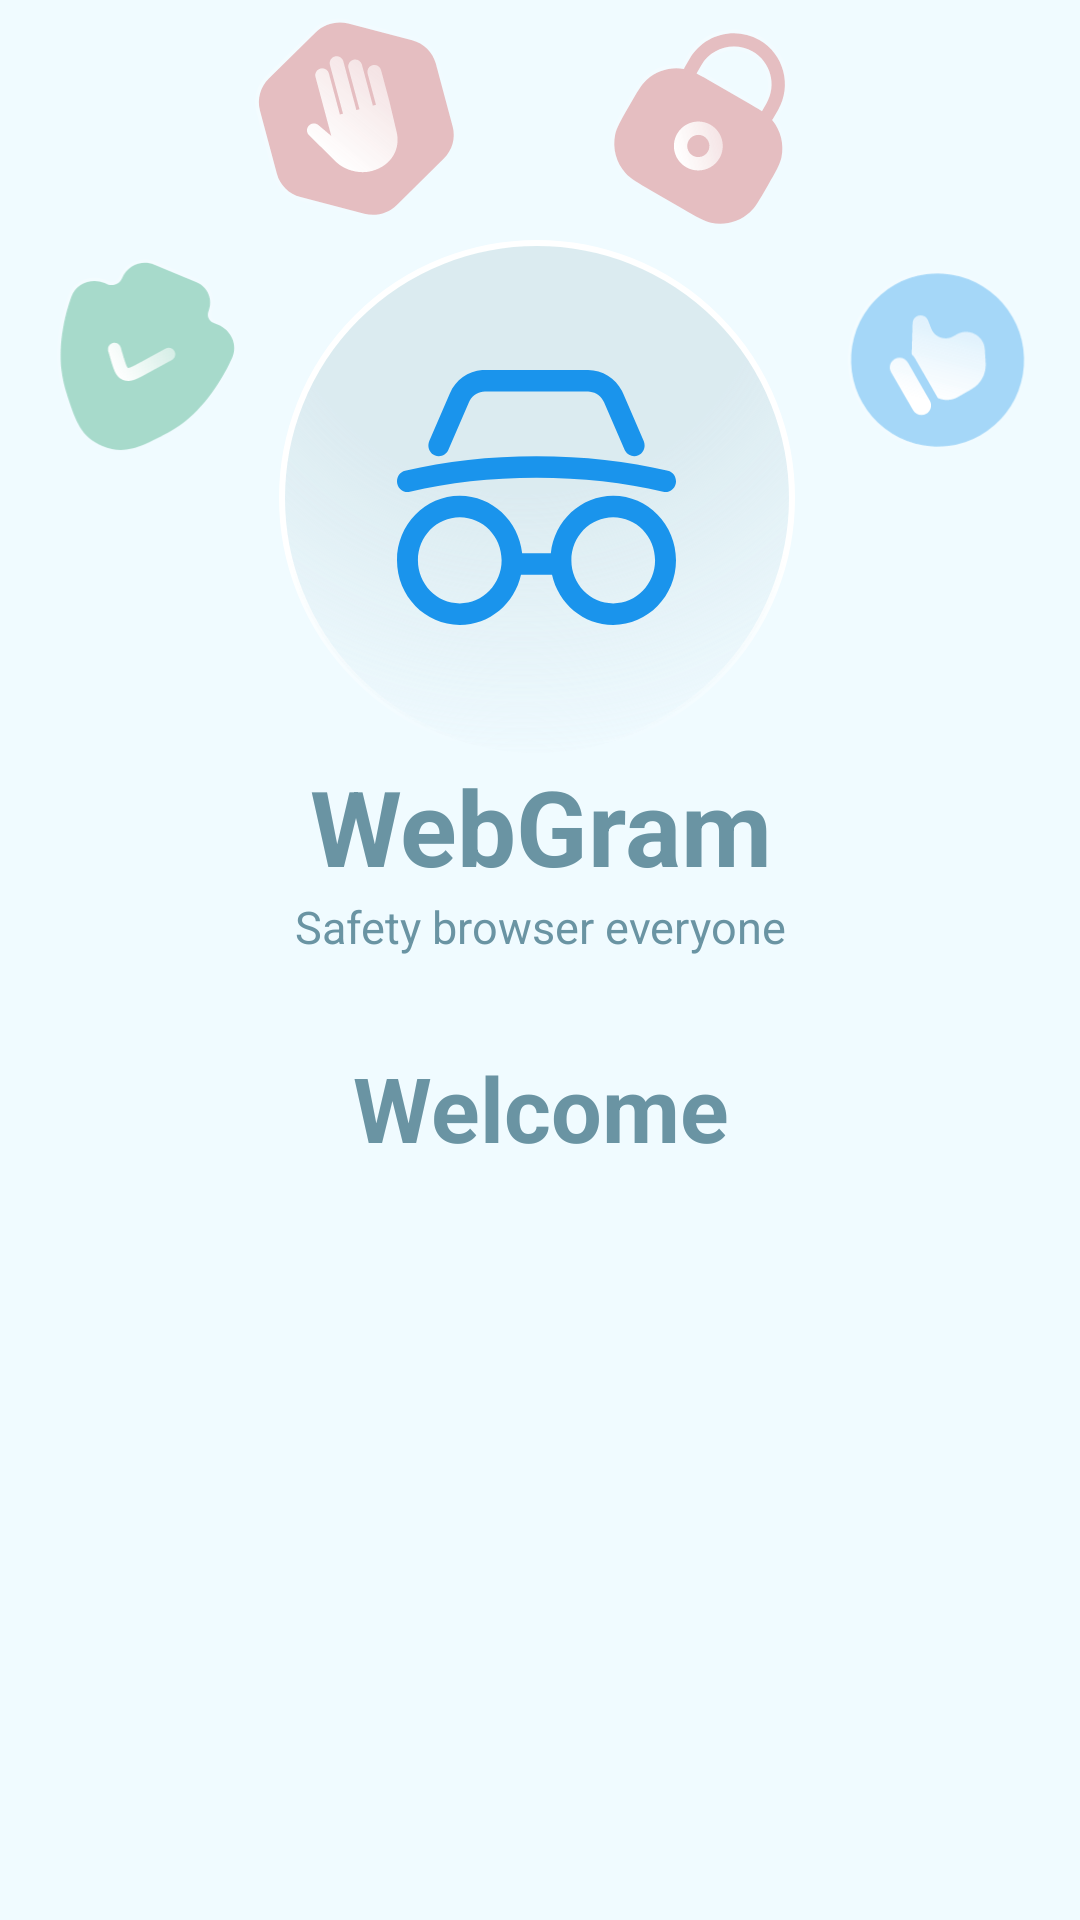

Icons on this 1080*1920 Android screen, each with its box as Rect(x1, y1, x2, y2):
checkmark: Rect(60, 263, 234, 450)
hand: Rect(259, 22, 454, 215)
lock: Rect(614, 33, 785, 224)
